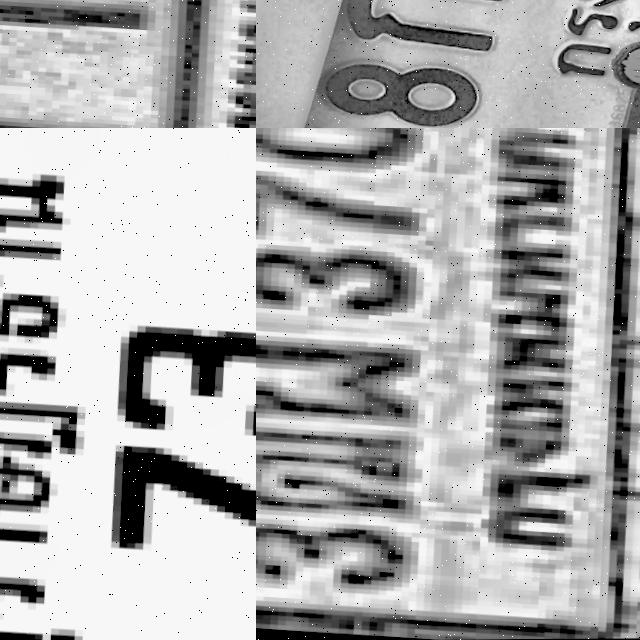license-plate: (256, 128, 640, 640), (0, 128, 256, 640), (256, 0, 640, 128), (0, 0, 256, 128)
